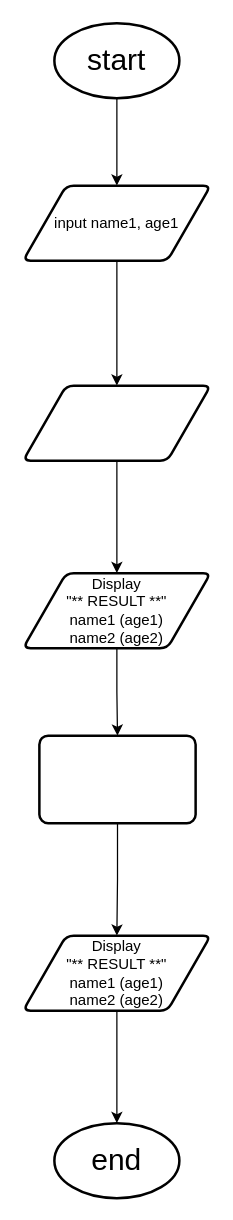
Some shapes in this 233 by 1220 pixel diagram are drawn without their labels. Here are the shapes that lost their labels. From the top down, the box of each, then its label:
(21, 384, 211, 461): input name2, age2
(38, 734, 196, 824): temp = age1 age1 = age2 age2 = temp
